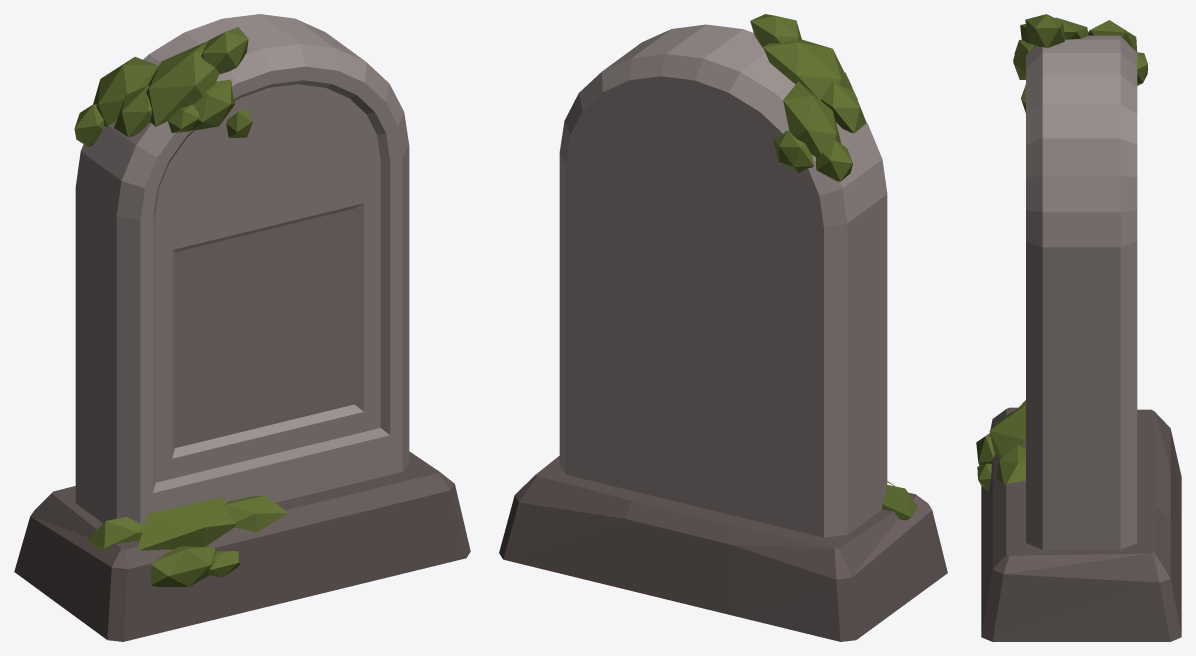
Rendered from carved-headstone-09d9f8.glb.
The picture shows the model from 3 angles, left to right: view 1: azimuth 30°, elevation 25°; view 2: azimuth 150°, elevation 25°; view 3: azimuth 270°, elevation 25°; orthographic projection. The views are drawn at different scales.
Visible parts, largest first — view 1: headstone; view 2: headstone; view 3: headstone.
Boxes of the visible parts, bbox=[...] form: headstone: bbox=[14, 14, 470, 641]; headstone: bbox=[499, 14, 947, 641]; headstone: bbox=[976, 14, 1181, 641].
Bounding box in the file's own units: 0.72 × 1.04 × 0.3693.
